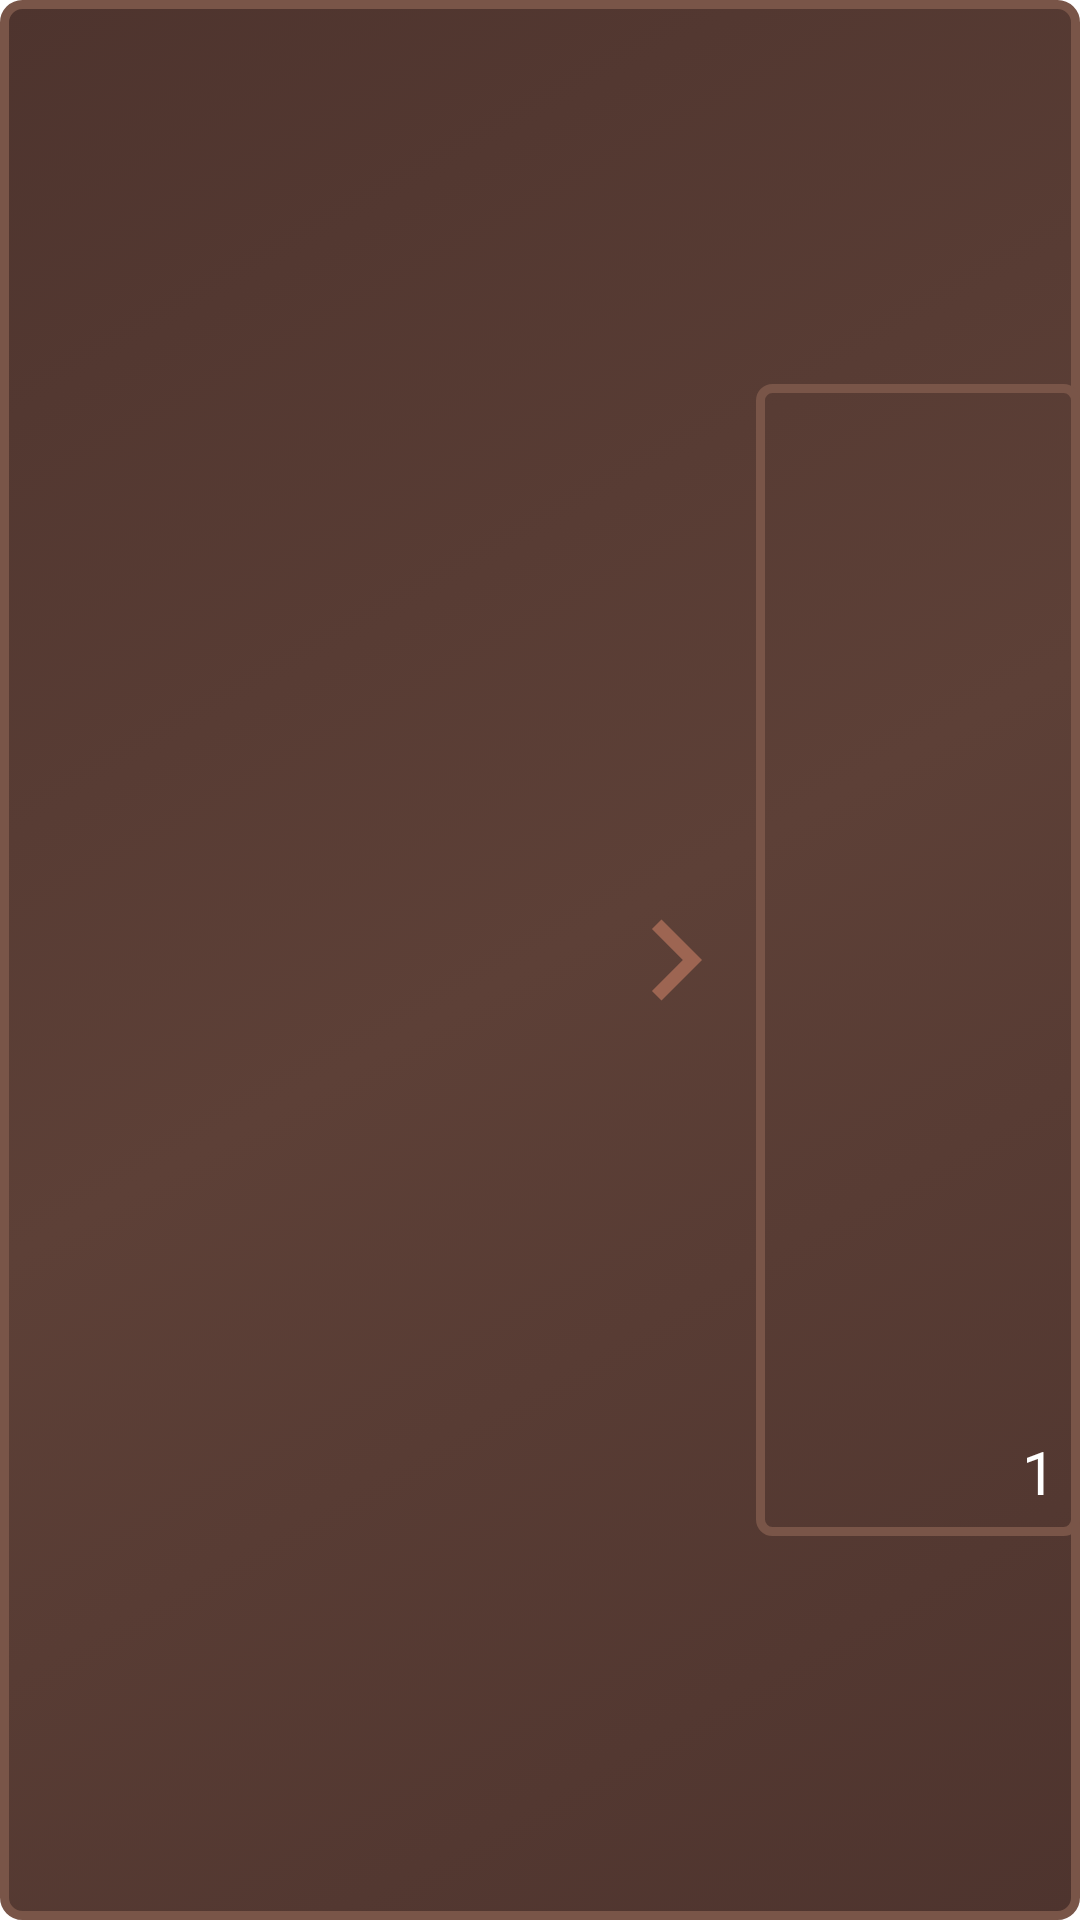

Icon click points for this 1080w x 1920h phone screenshot, format point (x, y):
chevron right: point (677, 960)
